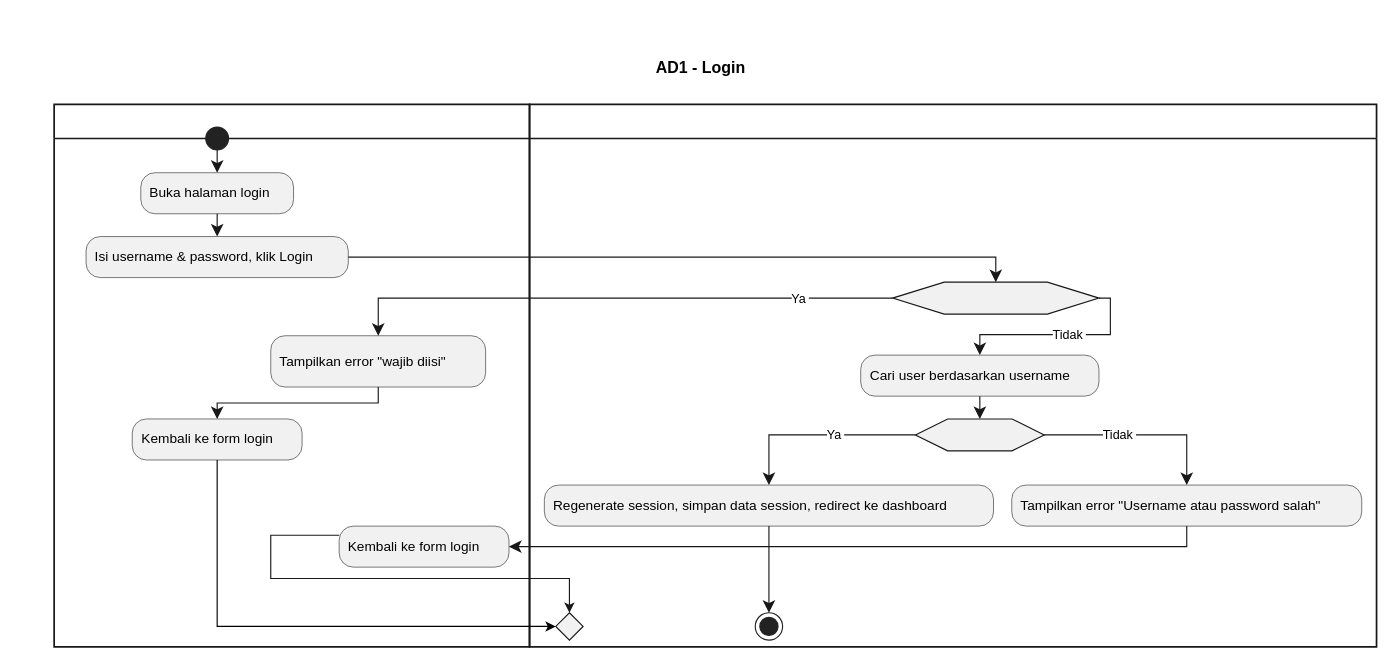
Image size: 1397x667. Some labels were removed from this diagram. The shapes that lost their labels are listed below. From the top down, each one's box as (x1, y1, x2, y2) in pixels, then its label:
(891, 281, 1099, 314): Username/password kosong?
(53, 103, 530, 647): User & Admin
(528, 103, 1377, 647): System
(914, 418, 1044, 451): Password cocok?
